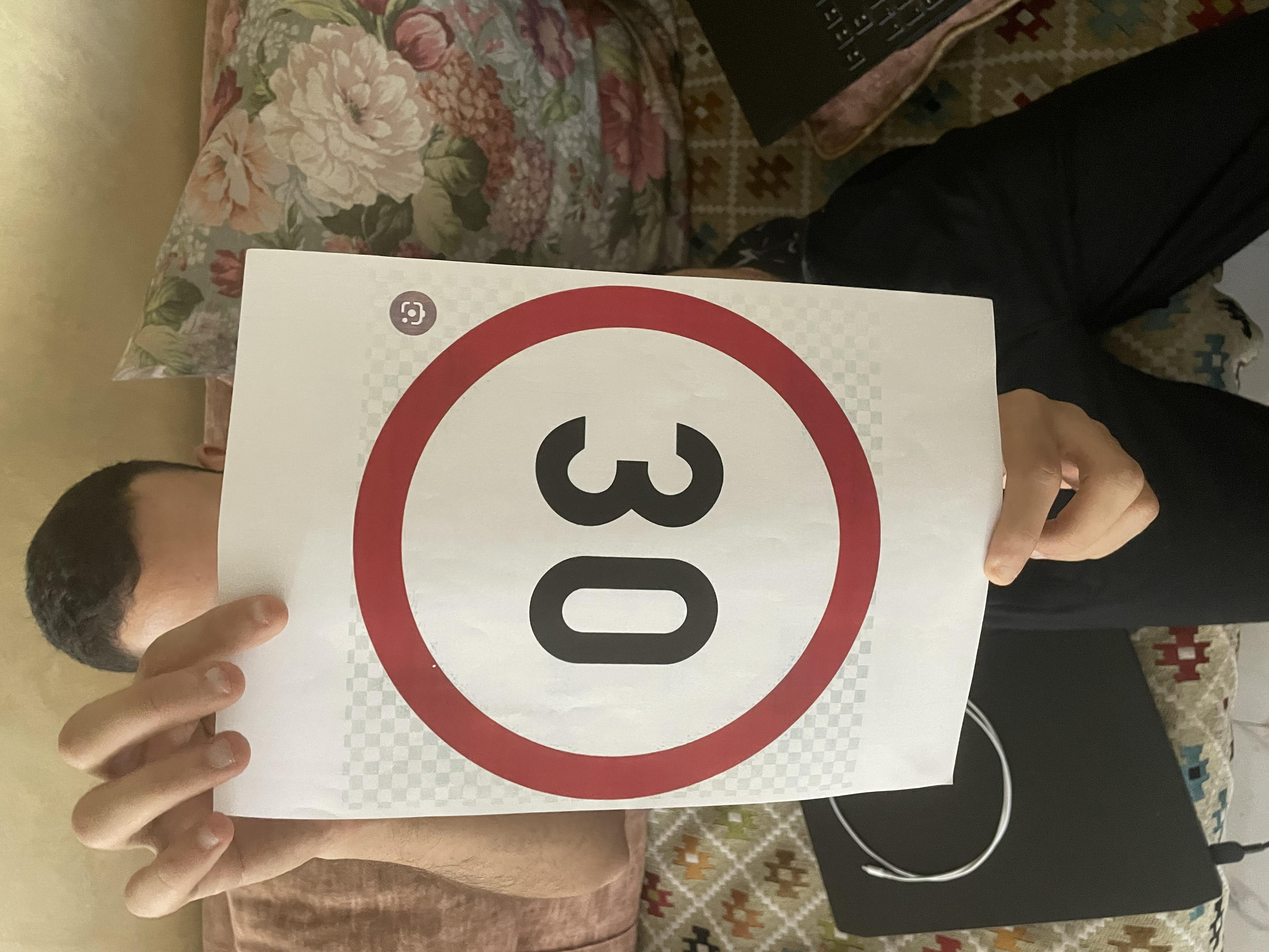30-speed: (190, 258, 916, 666)
